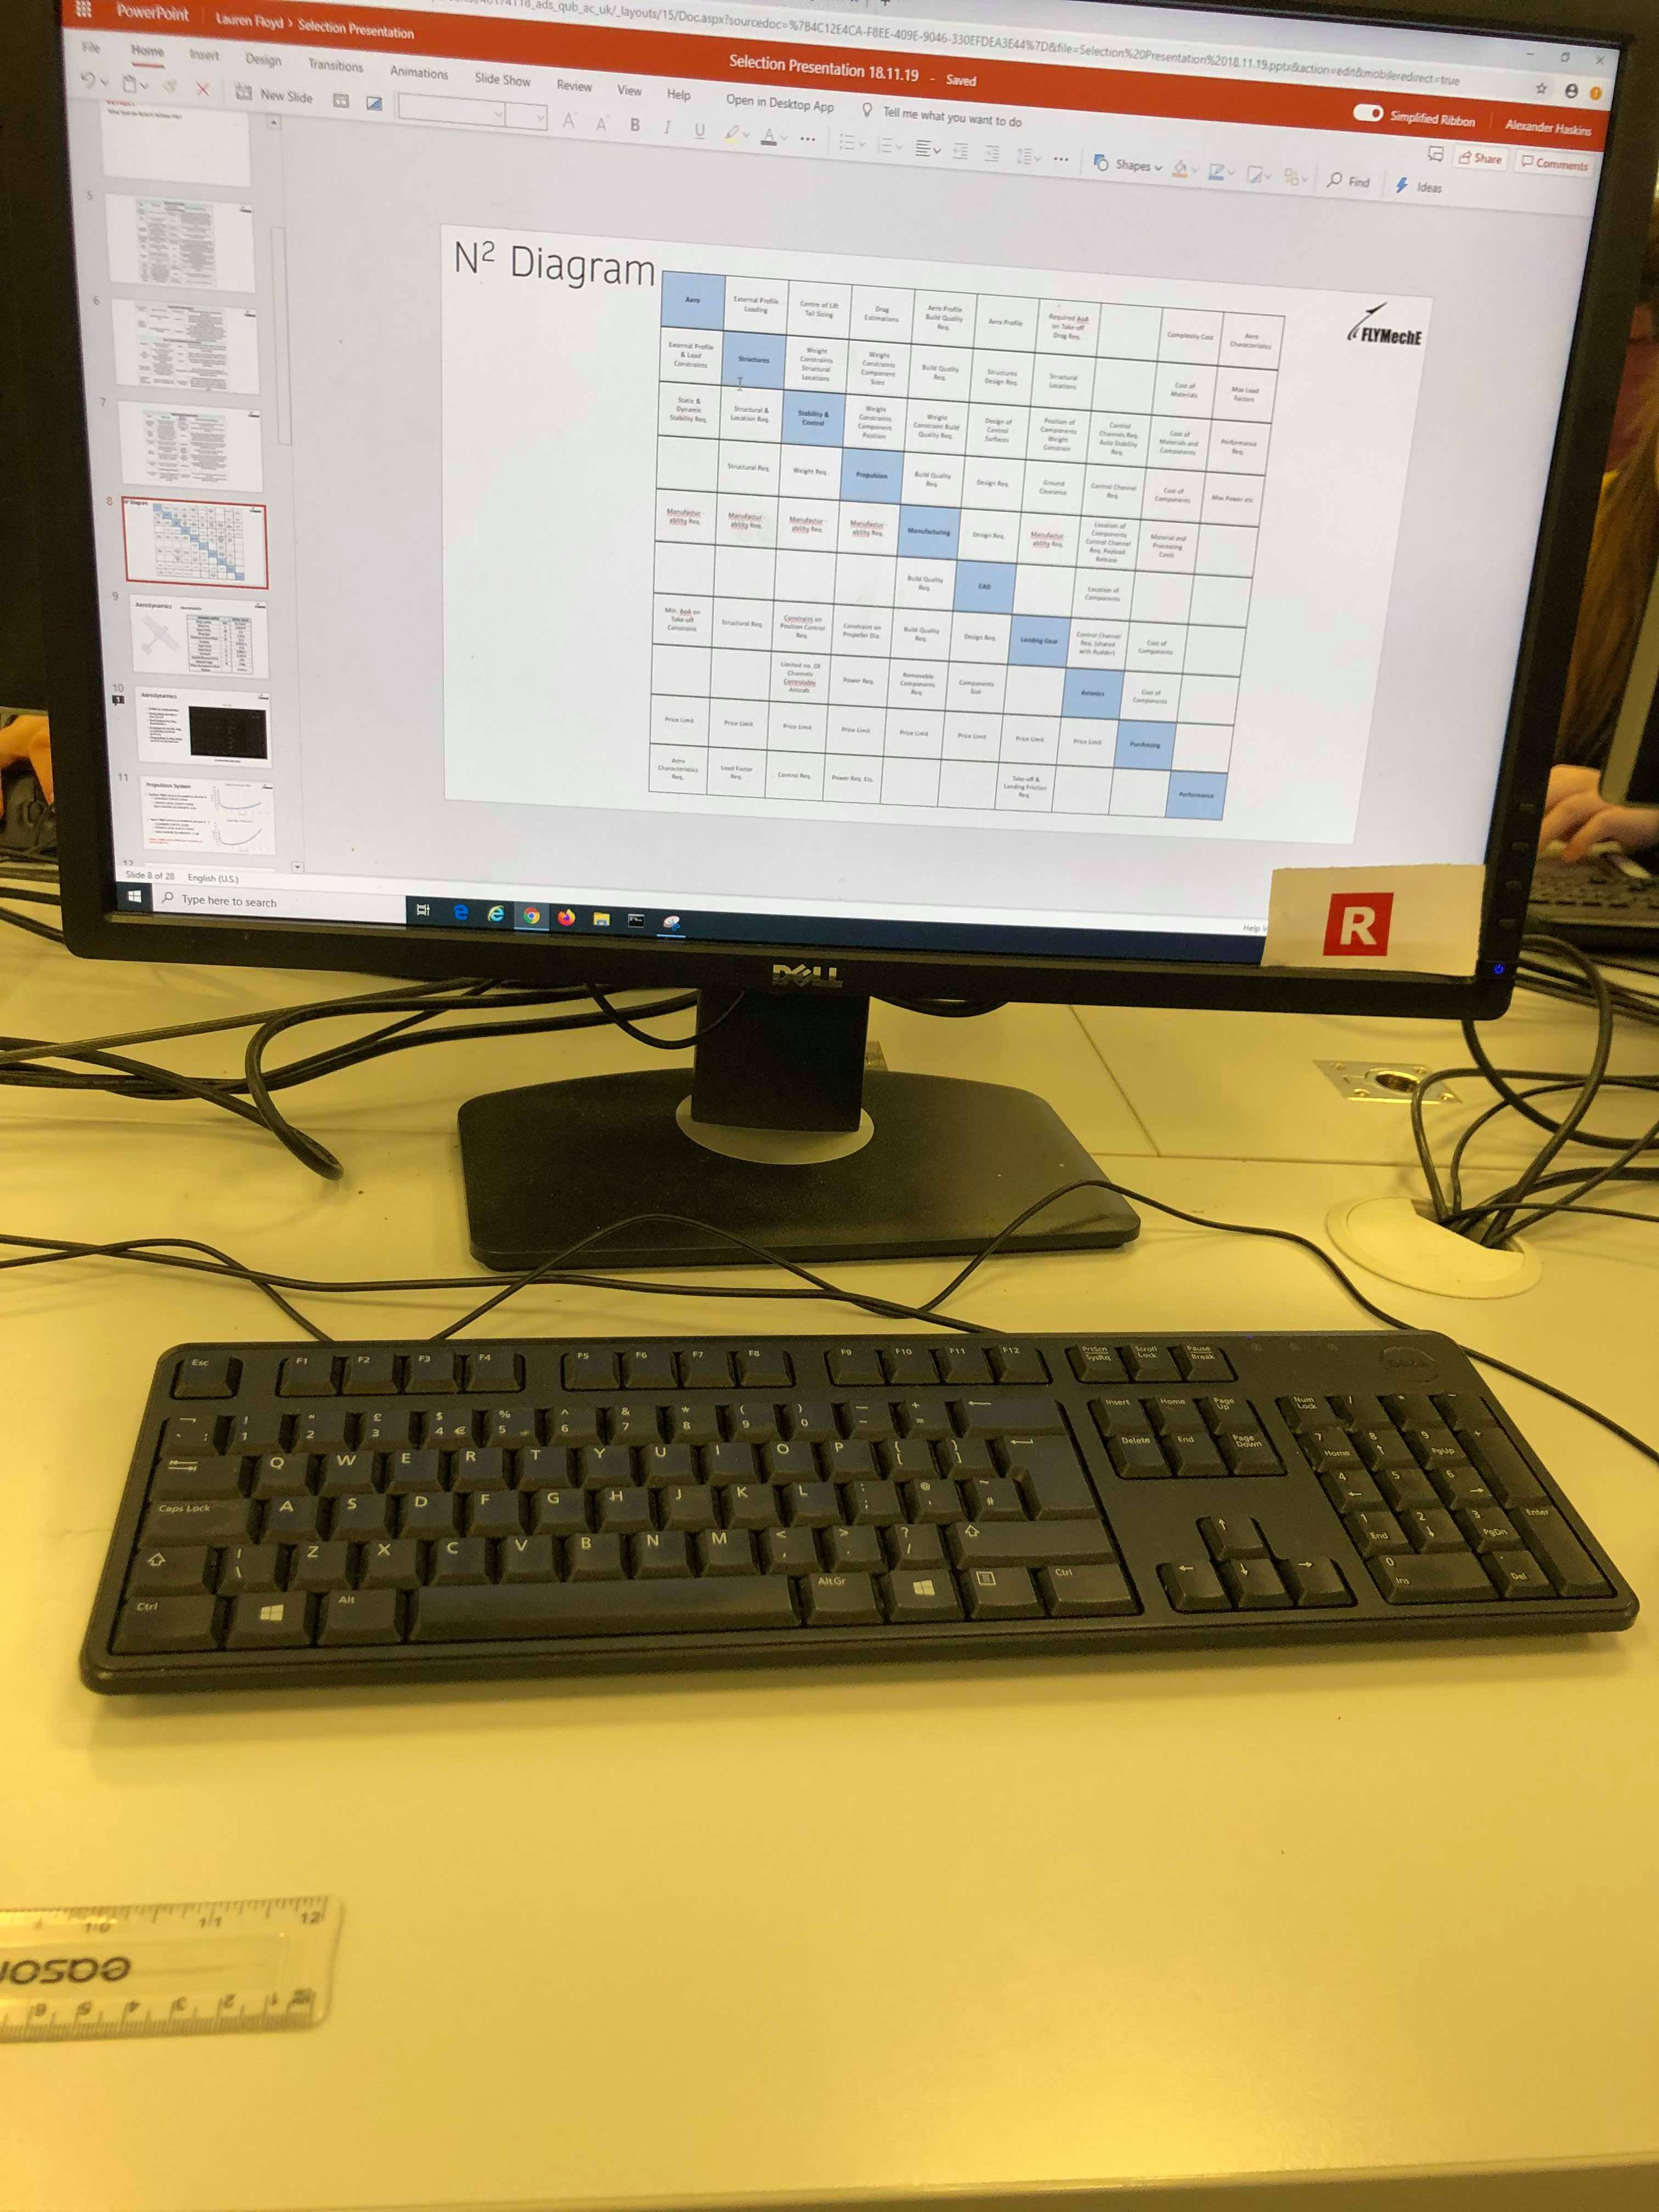marker: (1312, 852, 1422, 979)
